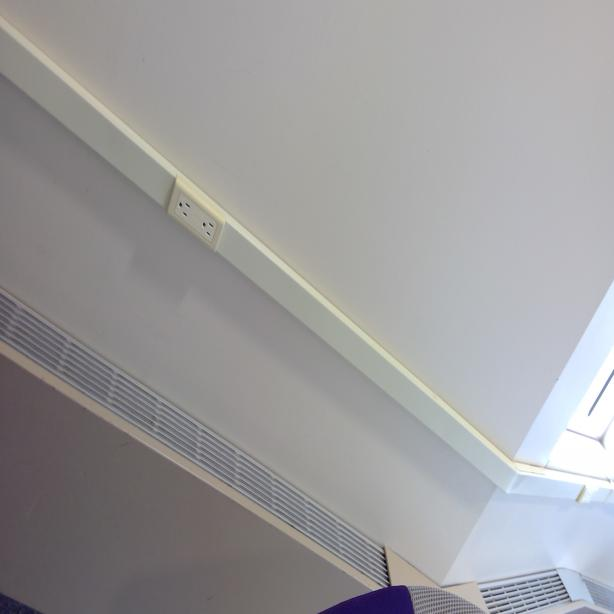typeb: (178, 196, 193, 220), (202, 216, 216, 240)
